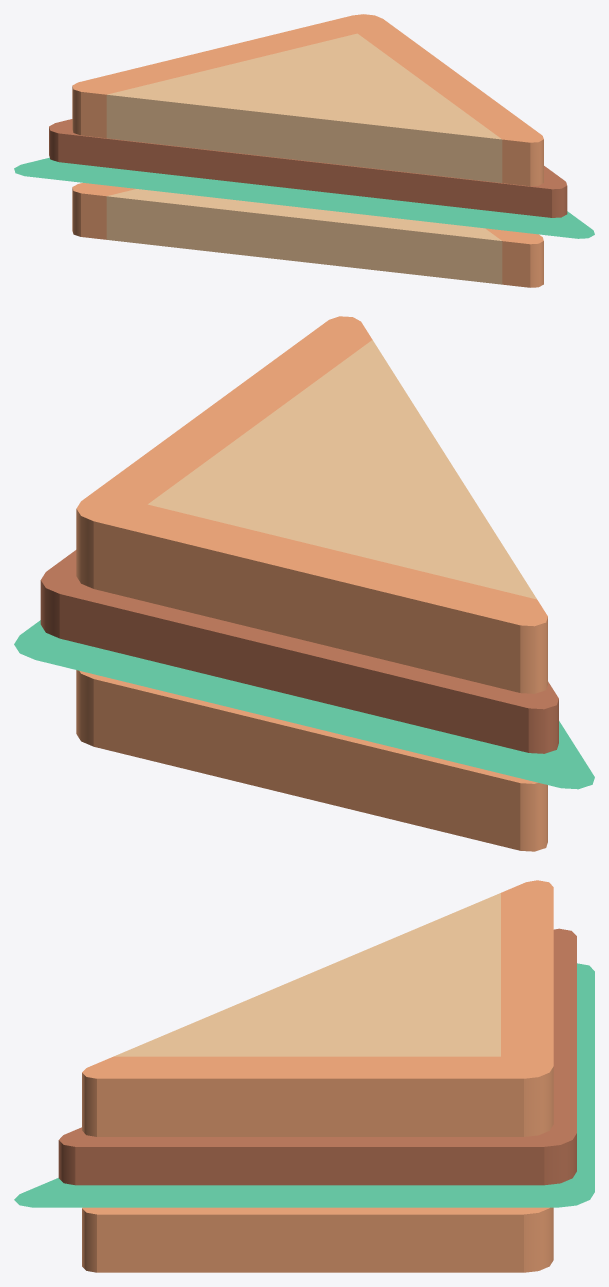
The model's file is sandwich.fbx.
The picture shows the model from 3 angles, top to bottom: view 1: azimuth 30°, elevation 25°; view 2: azimuth 150°, elevation 25°; view 3: azimuth 270°, elevation 25°; orthographic projection. The views are drawn at different scales.
Parts seen in each view (by area): view 1: sandwich, meat, lettuce; view 2: sandwich, meat, lettuce; view 3: sandwich, meat, lettuce.
Boxes of the visible parts, x1,y1,x2,y2 form: sandwich: [72, 14, 543, 287]; meat: [49, 119, 567, 217]; lettuce: [14, 157, 594, 238]; sandwich: [76, 316, 547, 851]; meat: [40, 550, 558, 753]; lettuce: [14, 620, 594, 789]; sandwich: [82, 880, 553, 1272]; meat: [58, 928, 576, 1185]; lettuce: [14, 963, 594, 1207].
Bounding box in the file's own units: 4.32 × 1.6 × 4.34.
